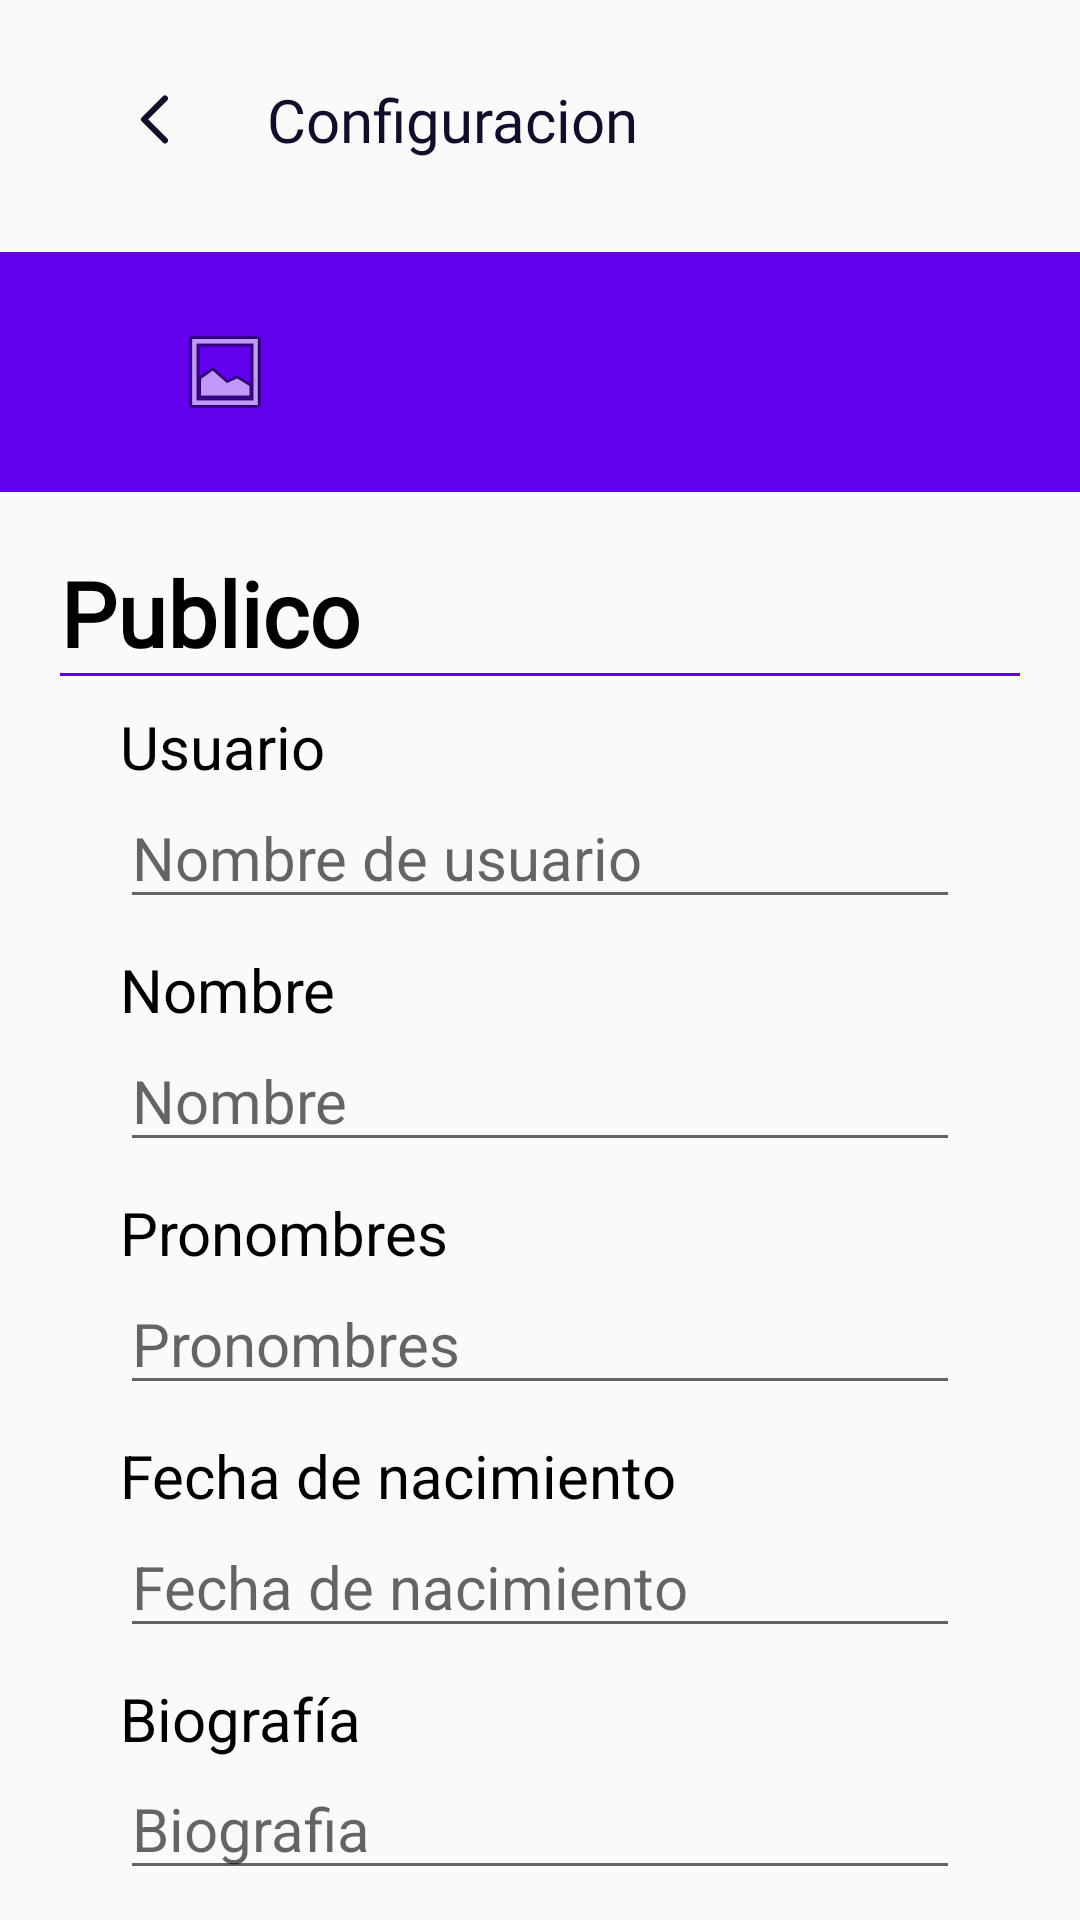

Locate icon controls on the screen. Image size 1080w x 1920h, boxes as {"x1": x1, "y1": y1, "x2": x2, "y2": y2}.
flecha atras: {"x1": 140, "y1": 95, "x2": 169, "y2": 144}
gallery: {"x1": 189, "y1": 336, "x2": 261, "y2": 408}
